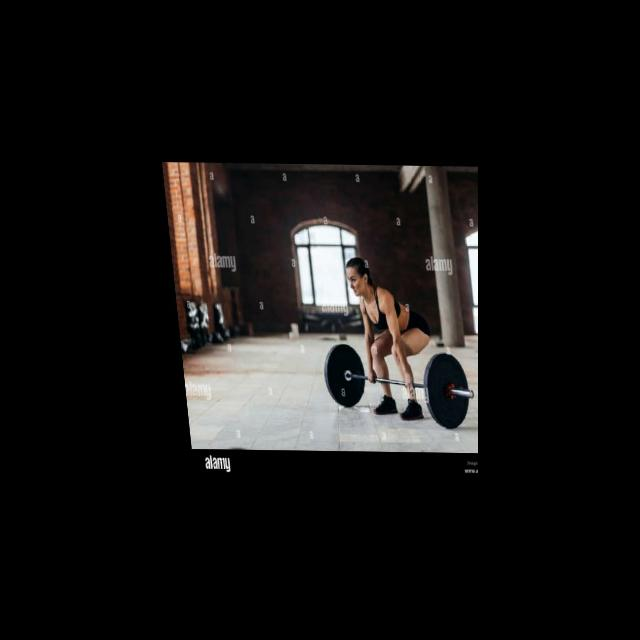barbell: (414, 349, 478, 432)
